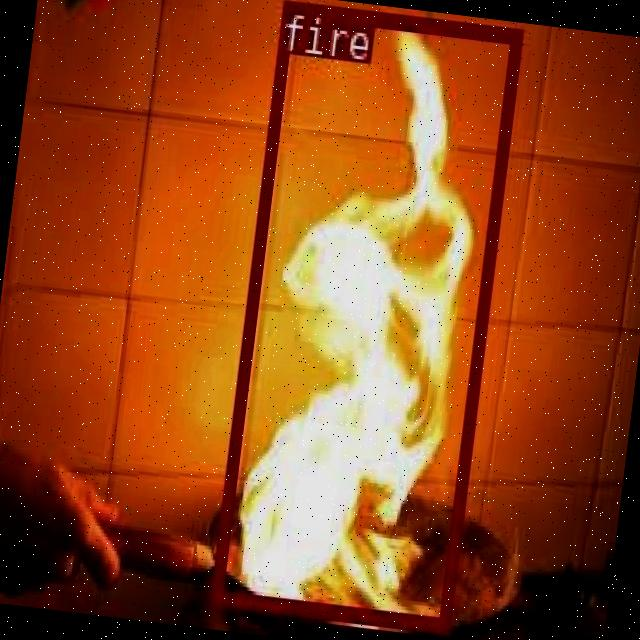fire: (207, 0, 520, 631)
